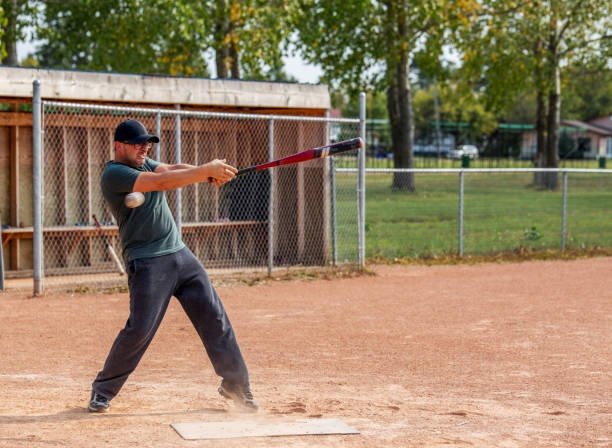bita: (219, 131, 368, 186)
